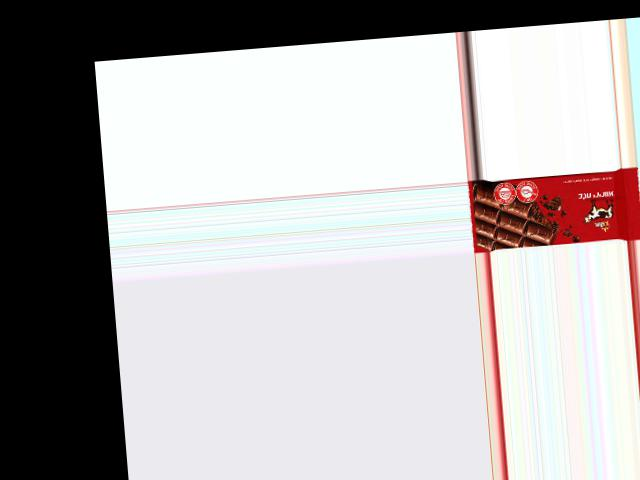chocolate: (469, 167, 640, 251)
